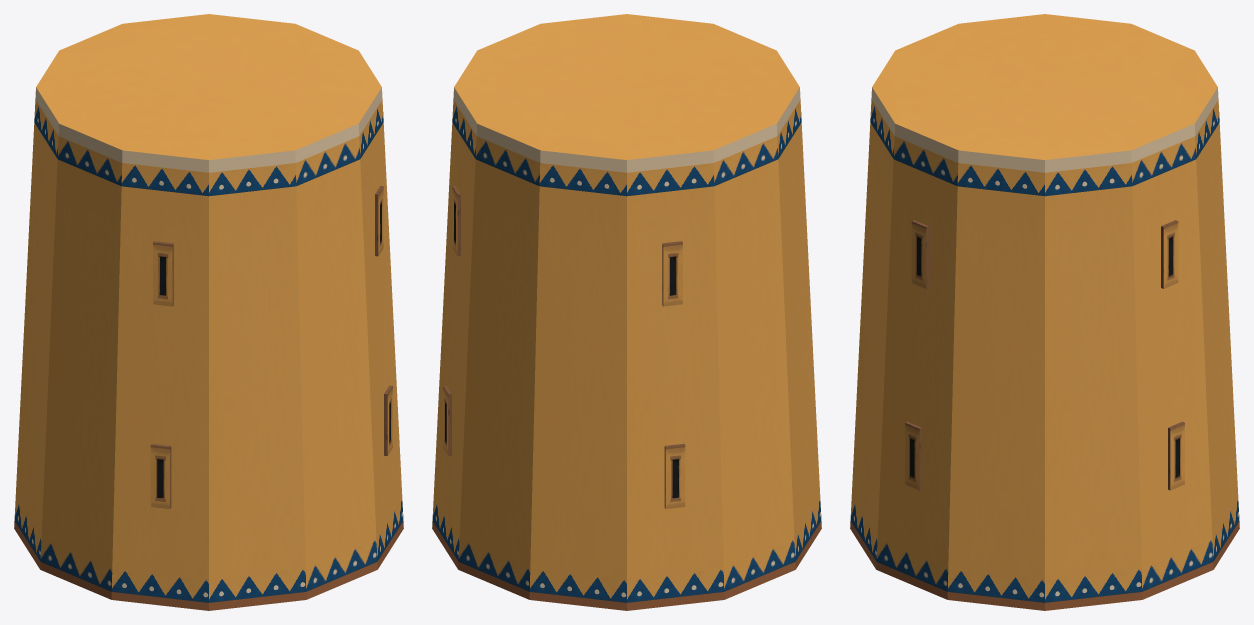
Rendered from rc_wa_tower_round_8x8x10.glb.
3 renders of one model, left to right at view 1: azimuth 30°, elevation 25°; view 2: azimuth 150°, elevation 25°; view 3: azimuth 270°, elevation 25°, orthographic.
Visible parts, largest first — view 1: SM_RC_WA_TowerRound_8x8x10; view 2: SM_RC_WA_TowerRound_8x8x10; view 3: SM_RC_WA_TowerRound_8x8x10.
Boxes of the visible parts, x1,y1,x2,y2 form: SM_RC_WA_TowerRound_8x8x10: [14, 14, 403, 610]; SM_RC_WA_TowerRound_8x8x10: [432, 14, 821, 610]; SM_RC_WA_TowerRound_8x8x10: [850, 14, 1239, 610].
Bounding box in the file's own units: 8 × 10 × 8.
Materials: 1 (1 with a texture image).
